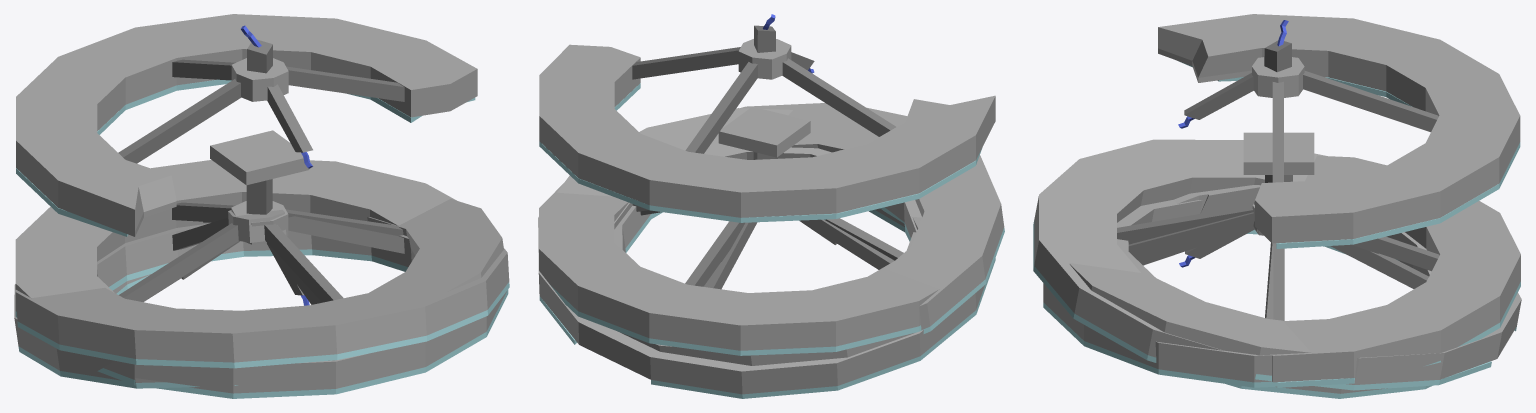
The model's file is Lamp3.fbx.
The picture shows the model from 3 angles, left to right: view 1: azimuth 30°, elevation 25°; view 2: azimuth 150°, elevation 25°; view 3: azimuth 270°, elevation 25°; orthographic projection. The views are drawn at different scales.
Visible parts, largest first — view 1: Lamp3.6, Lamp3.2, Lamp3.1, Lamp3.5, Lamp3.3; view 2: Lamp3.6, Lamp3.5, Lamp3.2, Lamp3.3, Lamp3.1; view 3: Lamp3.6, Lamp3.2, Lamp3.5, Lamp3.1, Lamp3.3.
Boxes of the visible parts, x1,y1,x2,y2 form: Lamp3.6: [16, 14, 477, 236]; Lamp3.2: [15, 209, 509, 368]; Lamp3.1: [15, 160, 508, 398]; Lamp3.5: [15, 130, 456, 379]; Lamp3.3: [14, 199, 503, 388]; Lamp3.6: [539, 14, 995, 222]; Lamp3.5: [539, 106, 939, 355]; Lamp3.2: [614, 103, 1004, 365]; Lamp3.3: [538, 108, 995, 398]; Lamp3.1: [539, 193, 938, 355]; Lamp3.6: [1158, 14, 1520, 248]; Lamp3.2: [1033, 139, 1432, 398]; Lamp3.5: [1179, 132, 1520, 387]; Lamp3.1: [1043, 156, 1520, 387]; Lamp3.3: [1069, 200, 1521, 390].
Bounding box in the file's own units: 28.97 × 20.29 × 29.13.
